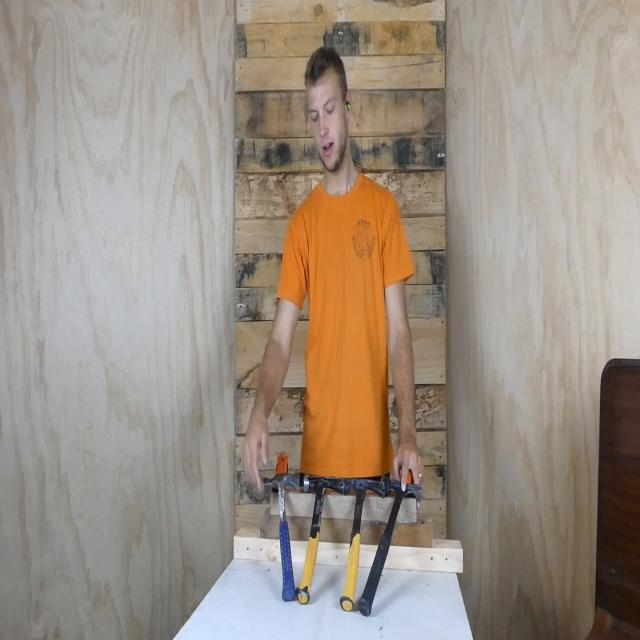hammer: (358, 474, 420, 616), (338, 474, 386, 612), (297, 476, 345, 605), (258, 470, 303, 605)
